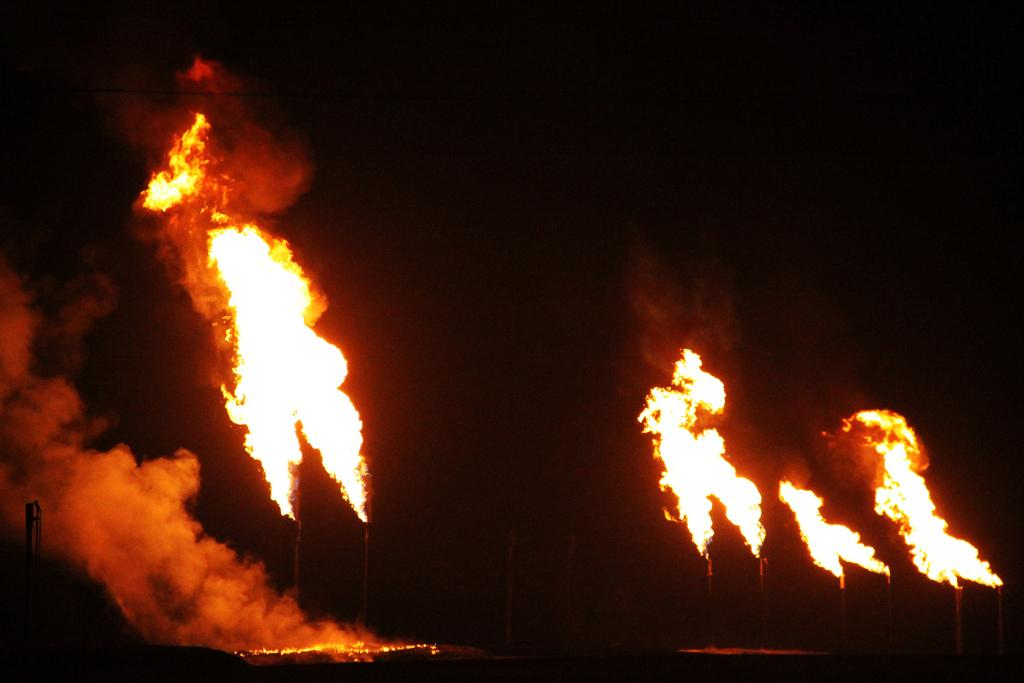fire: (242, 317, 382, 498), (668, 435, 762, 532), (202, 233, 295, 315), (893, 477, 943, 577), (805, 500, 862, 573)
